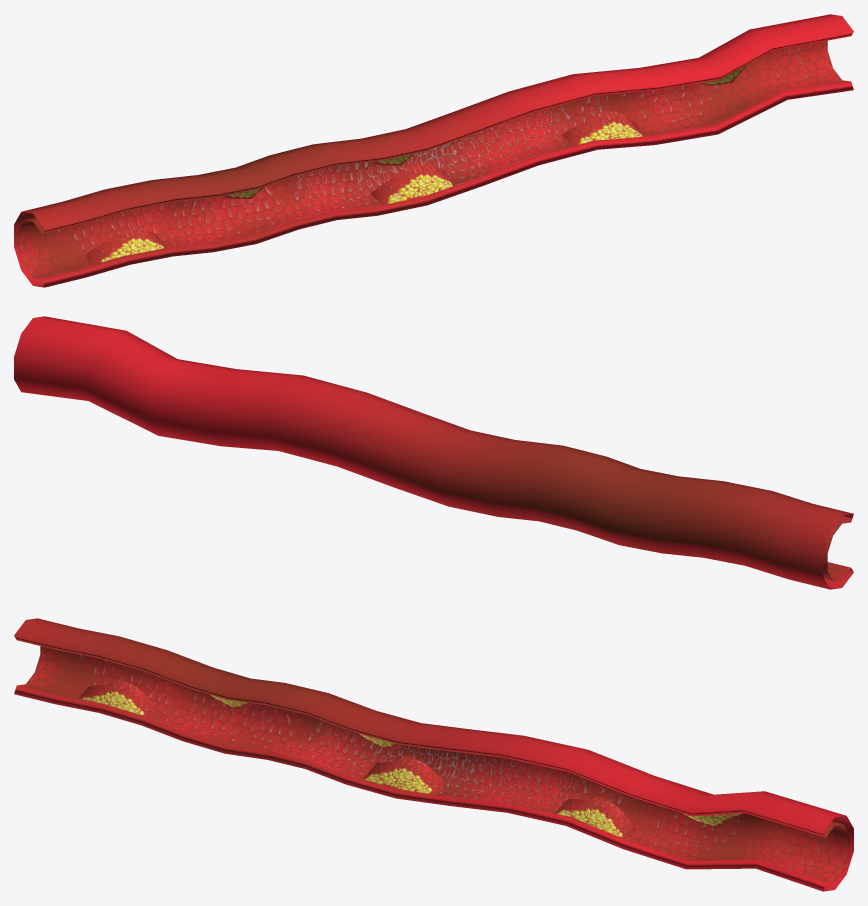
The model's file is Export_Tex_Escenario_001.fbx.
3 renders of one model, top to bottom at view 1: azimuth 30°, elevation 25°; view 2: azimuth 150°, elevation 25°; view 3: azimuth 330°, elevation 25°, orthographic.
Parts seen in each view (by area): view 1: pPipe1, pCube4, pCube6, pCube2; view 2: pPipe1; view 3: pPipe1, pCube4, pCube6, pCube2, pCube7.
Part boxes in pixels (bbox=[...]): pPipe1: bbox=[14, 14, 853, 287]; pCube4: bbox=[371, 163, 453, 204]; pCube6: bbox=[562, 110, 643, 144]; pCube2: bbox=[86, 227, 165, 263]; pPipe1: bbox=[14, 316, 853, 589]; pPipe1: bbox=[14, 618, 853, 891]; pCube4: bbox=[363, 755, 446, 793]; pCube6: bbox=[555, 796, 636, 837]; pCube2: bbox=[79, 678, 157, 715]; pCube7: bbox=[682, 813, 749, 828].
Size of the model in its own units: 443 by 46.03 by 29.68.
2 materials, 2 textured.
